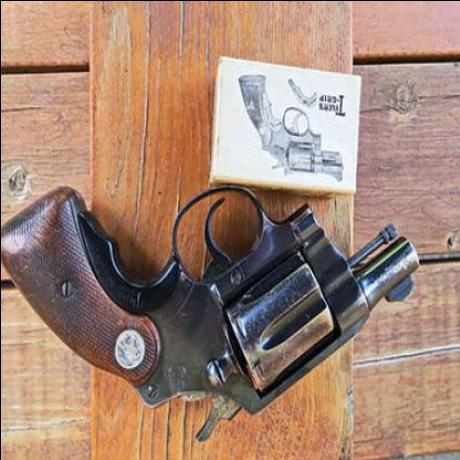weapon: (6, 175, 422, 448)
